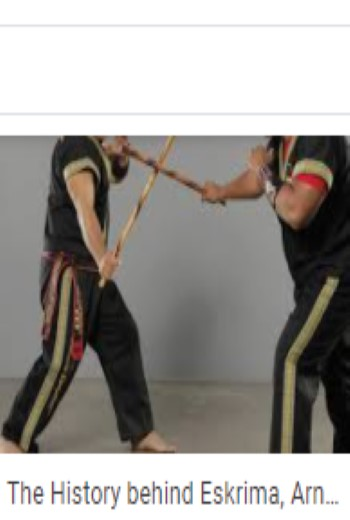baston_e: (102, 144, 189, 262), (131, 147, 195, 197)
baston_v: (92, 270, 110, 294), (213, 191, 230, 209)
